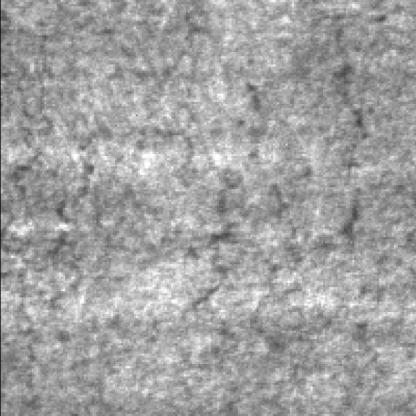crazing: (191, 61, 387, 397), (4, 33, 127, 416)
